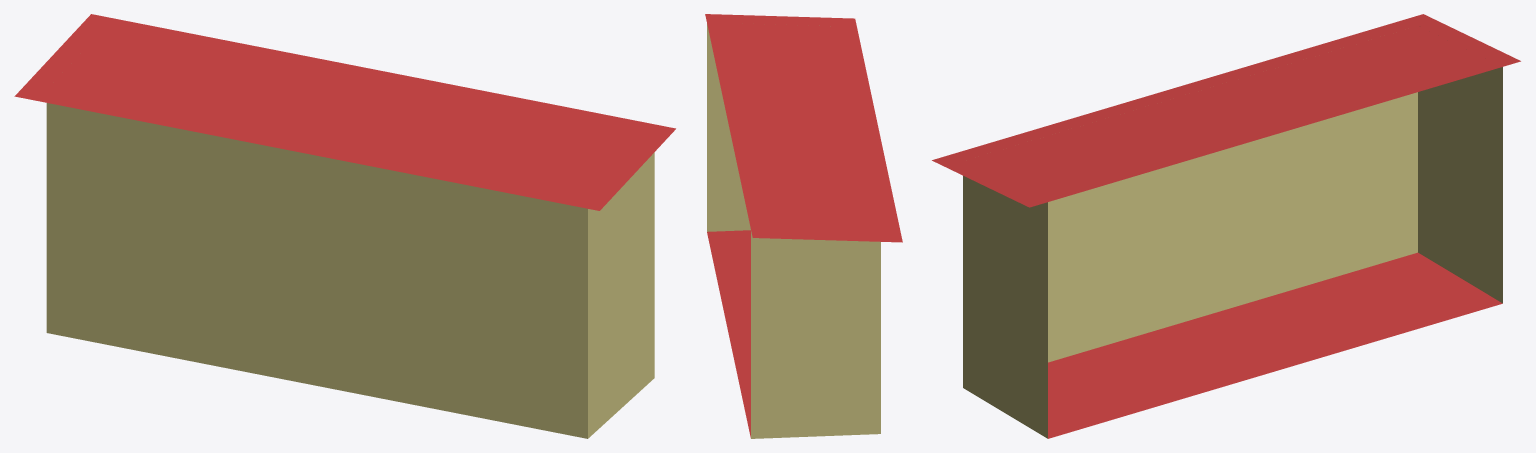
3 renders of one model, left to right at view 1: azimuth 30°, elevation 25°; view 2: azimuth 150°, elevation 25°; view 3: azimuth 270°, elevation 25°, orthographic. The views are drawn at different scales.
Bounding box in the file's own units: 10.74 × 13.05 × 5.78.
